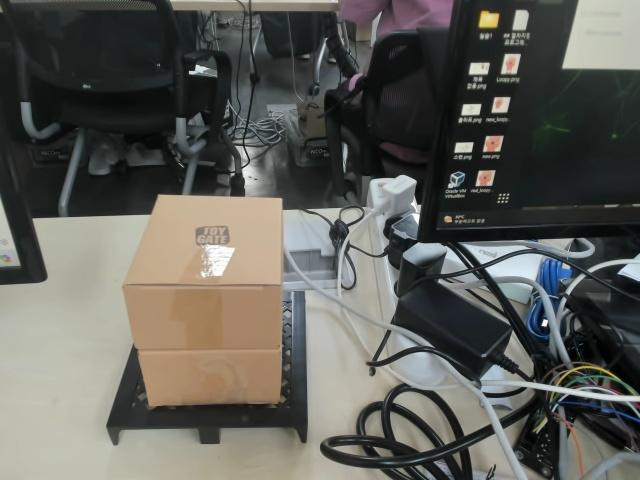box: (105, 193, 311, 445)
